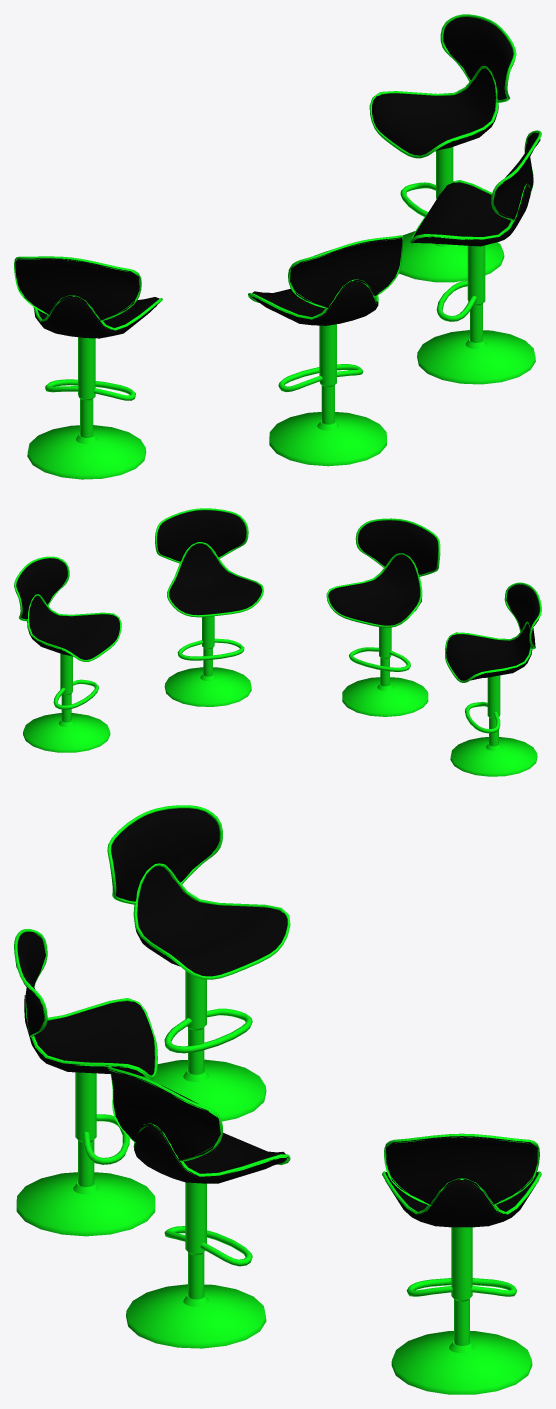
File: Chairs_1.FBX
The picture shows the model from 3 angles, top to bottom: view 1: azimuth 30°, elevation 25°; view 2: azimuth 150°, elevation 25°; view 3: azimuth 270°, elevation 25°; orthographic projection. The views are drawn at different scales.
Parts seen in each view (by area): view 1: Chairs_1; view 2: Chairs_1; view 3: Chairs_1.
Boxes of the visible parts, left/top/right/bottom form: Chairs_1: left=14, top=14, right=541, bottom=479; Chairs_1: left=14, top=508, right=541, bottom=776; Chairs_1: left=14, top=805, right=541, bottom=1394.
Size of the model in its own units: 4153 by 1491 by 2732.
2 materials, 1 textured.
